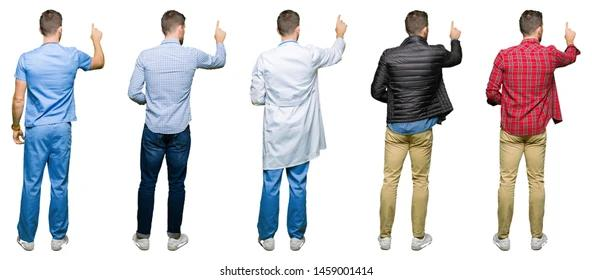coat: (368, 35, 465, 126)
jacket: (249, 37, 346, 170)
long sleeve shirt: (485, 38, 582, 137), (127, 39, 227, 135)
short sleeve shirt: (12, 43, 93, 128)
trousers: (15, 122, 72, 242), (135, 124, 191, 238), (378, 125, 434, 239), (495, 127, 547, 238), (257, 160, 311, 240)
